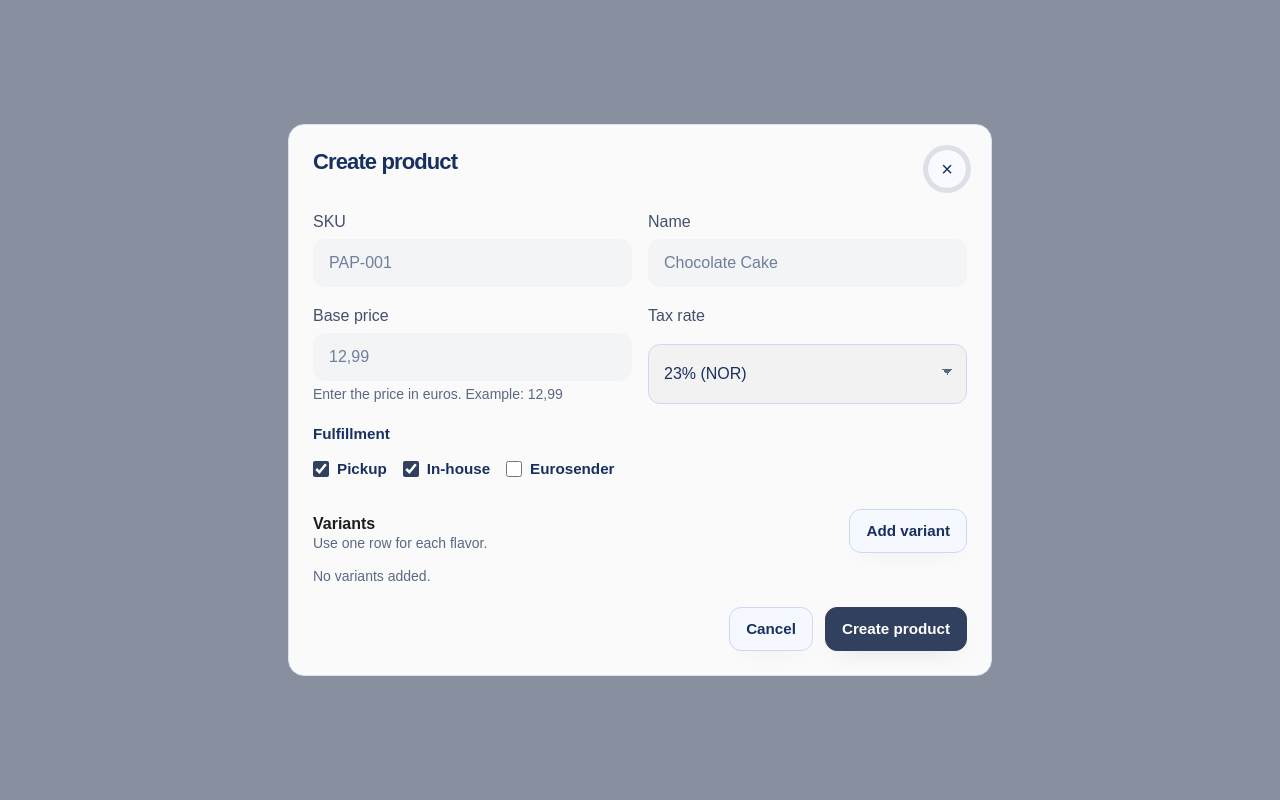
Test: ProductsModal › validates required fields before submitting
Click the button "Create product" at (896, 629), box x1=825 y1=607 x2=967 y2=651
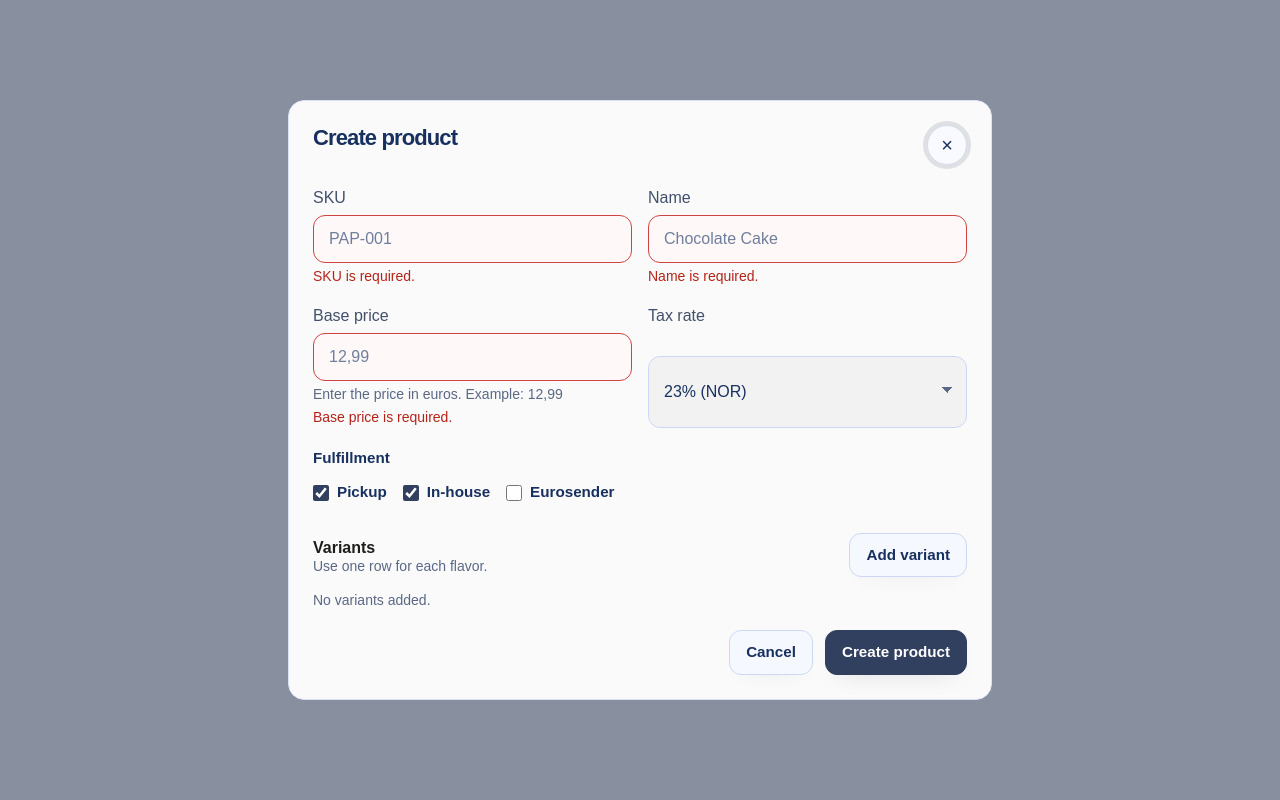
Now the text "SKU is required." is shown, box x1=313 y1=268 x2=415 y2=284
Now the text "Name is required." is shown, box x1=648 y1=268 x2=758 y2=284
Now the text "Base price is required." is shown, box x1=313 y1=410 x2=452 y2=426
